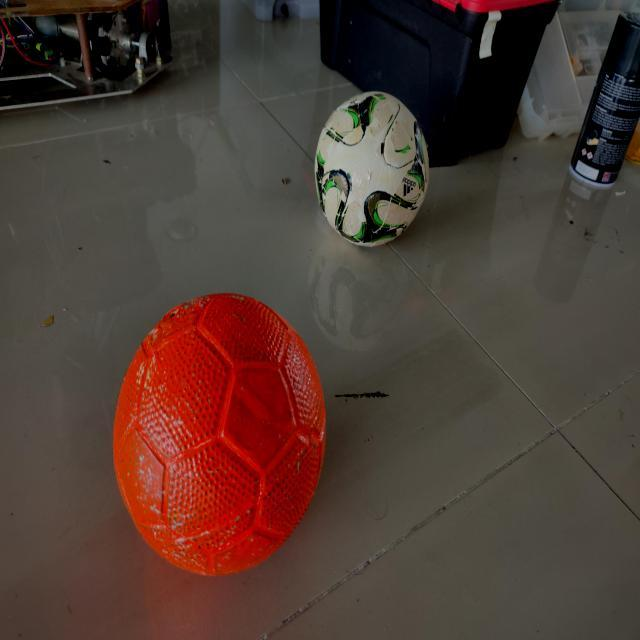bola: (110, 291, 327, 584), (312, 83, 436, 252)
